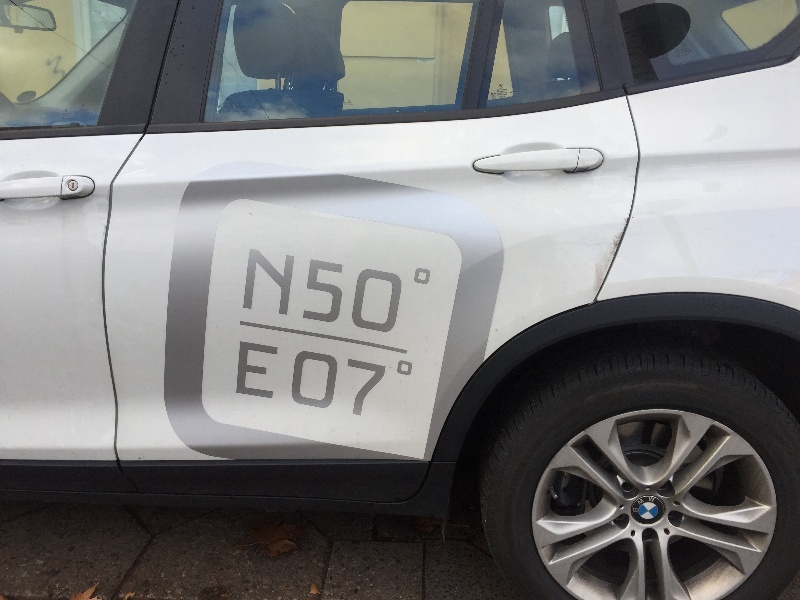text: (321, 260, 336, 336), (337, 260, 352, 336), (353, 260, 368, 336), (369, 260, 384, 336), (385, 260, 400, 336), (305, 350, 320, 420), (321, 350, 336, 420), (337, 350, 352, 420), (353, 350, 368, 420), (369, 350, 384, 420), (257, 249, 272, 316), (273, 249, 288, 316), (241, 342, 256, 400), (257, 342, 272, 400), (310, 260, 320, 336), (297, 350, 304, 420), (289, 249, 296, 316), (250, 249, 256, 316), (273, 342, 278, 400), (417, 268, 432, 287), (401, 360, 414, 378), (401, 260, 404, 336), (385, 350, 387, 420), (649, 498, 656, 503), (633, 508, 640, 513), (637, 499, 640, 506), (641, 499, 644, 506)
